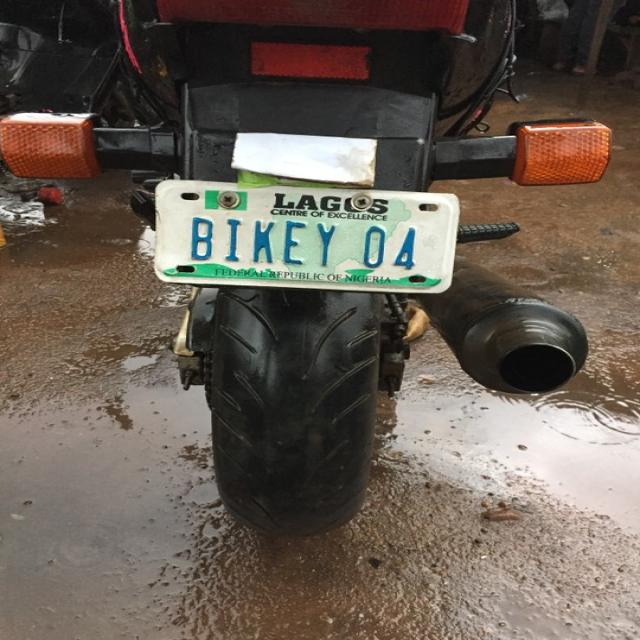license_plate: (150, 177, 460, 293)
